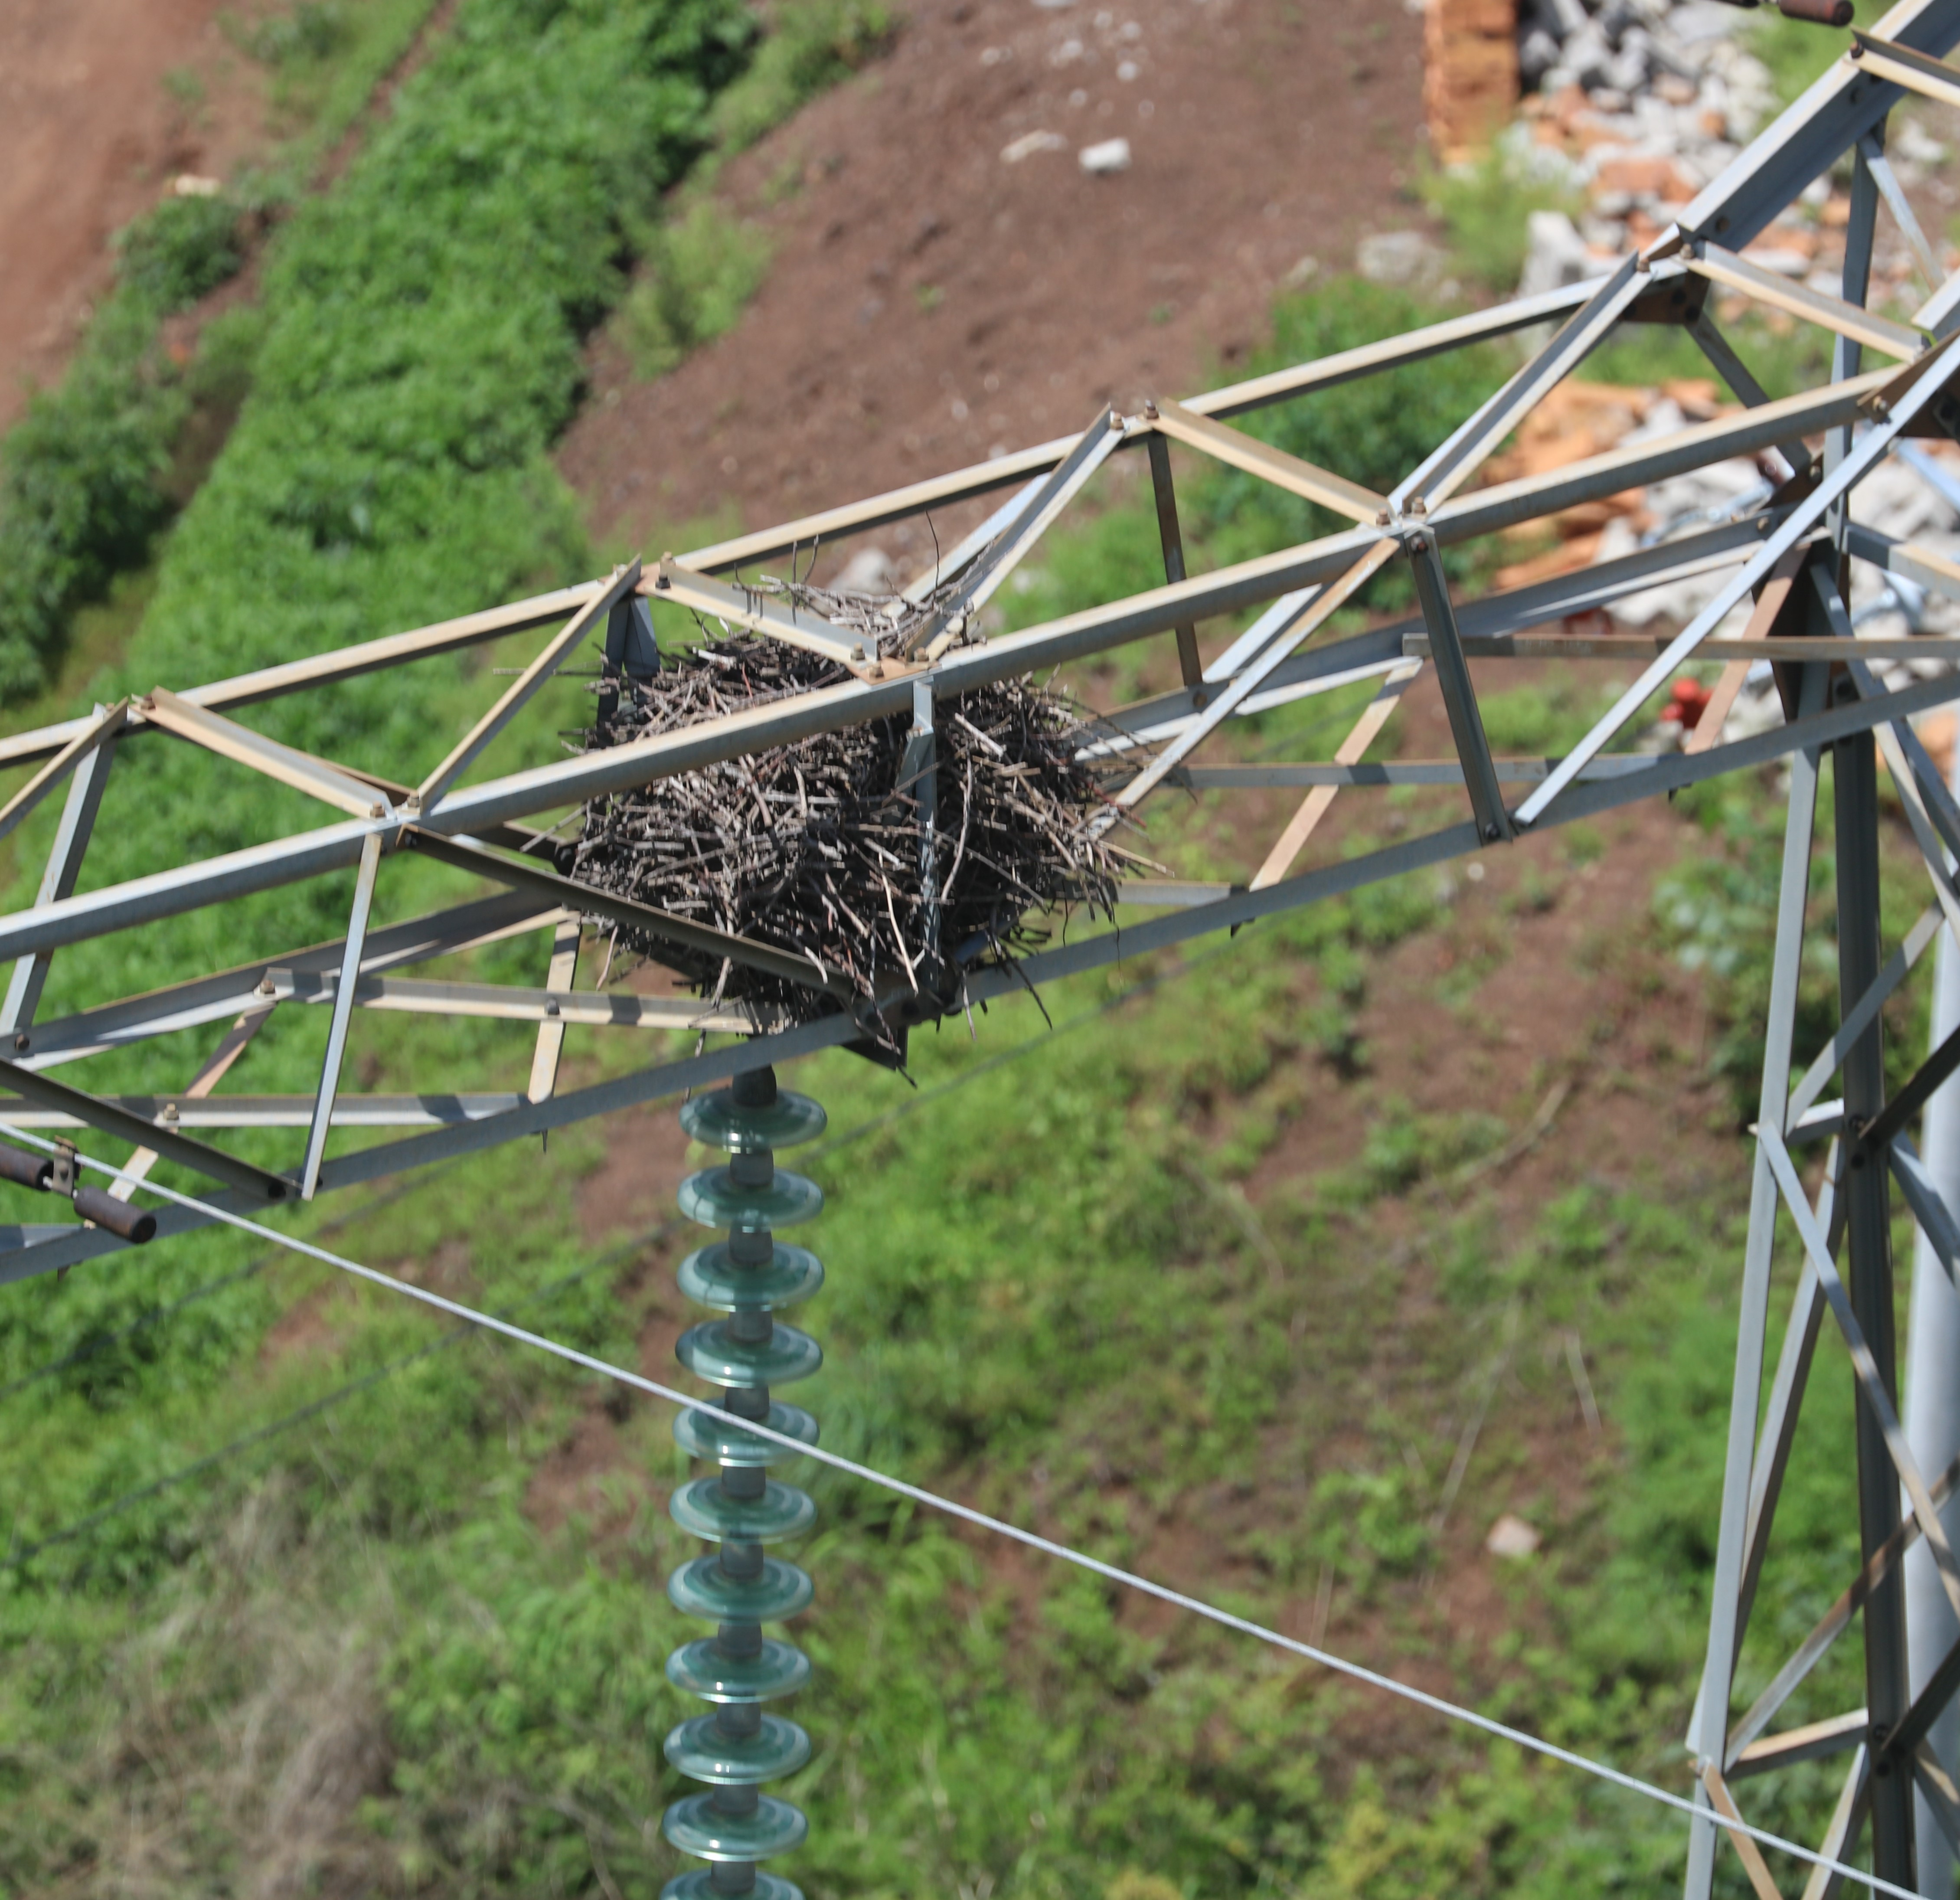niaowo: (577, 591, 1102, 1032)
